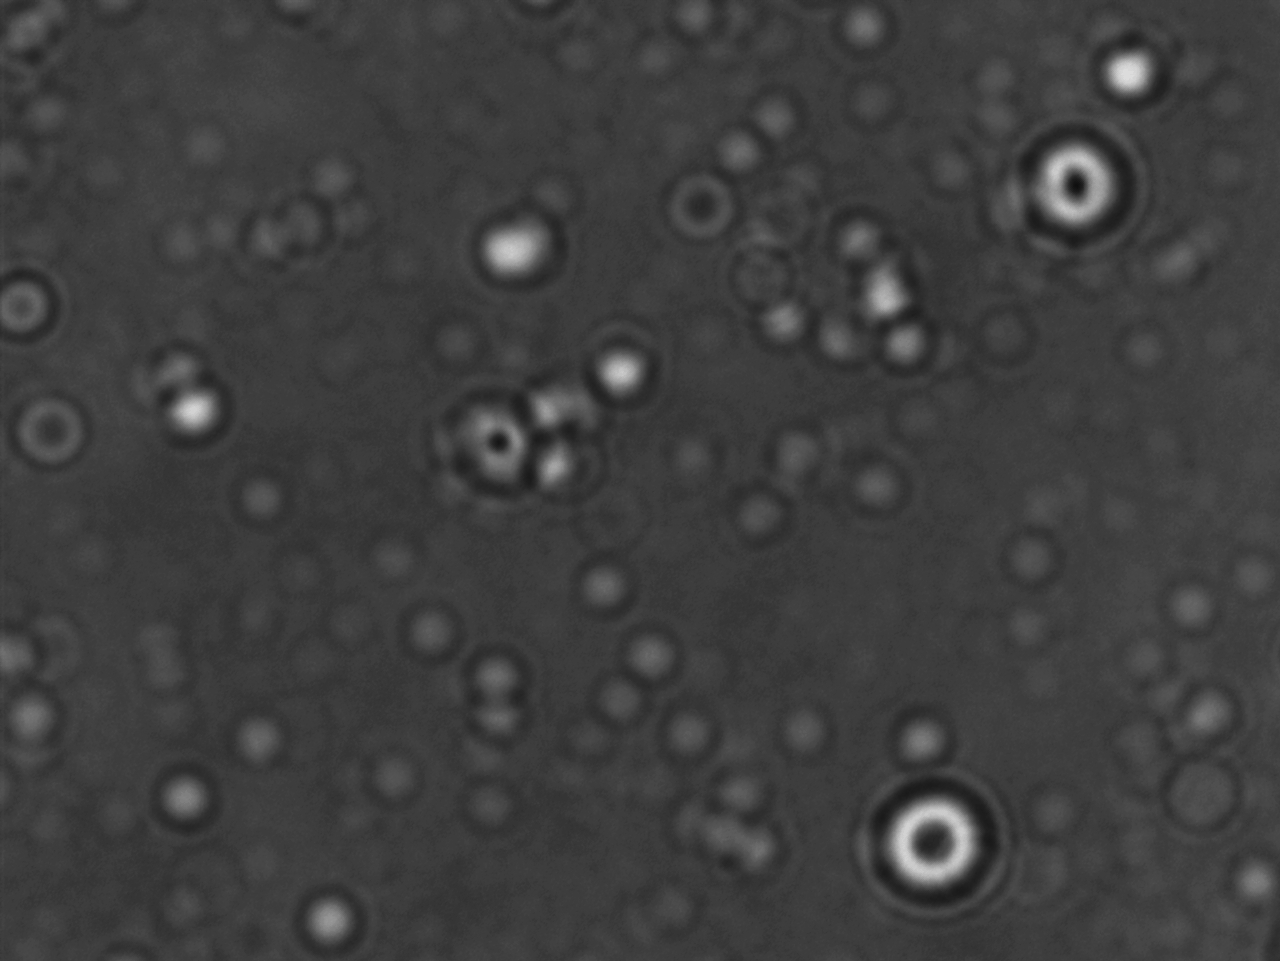depth:24: (853, 757, 1008, 917), (1006, 116, 1156, 258)
